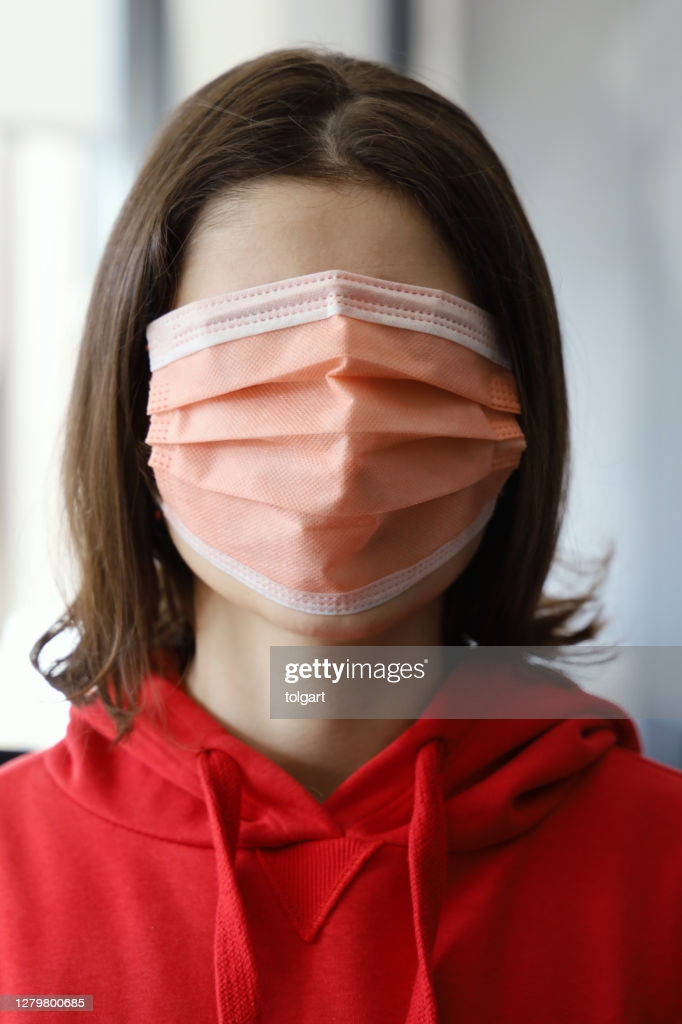with_incorrect_mask: (167, 248, 491, 593)
